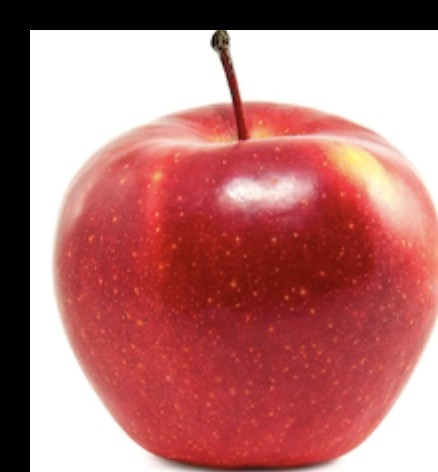fresh_apple: (56, 103, 438, 470)
